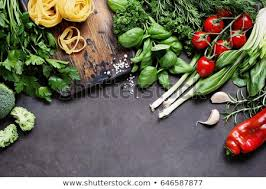Tomato: (191, 31, 214, 48), (229, 30, 248, 48), (198, 55, 213, 77), (203, 16, 225, 30)
